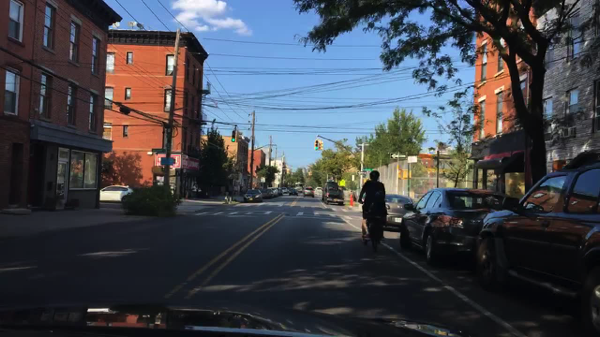bike: (356, 198, 391, 250)
car: (472, 149, 598, 329), (399, 187, 520, 264), (382, 194, 414, 228), (97, 184, 133, 203), (322, 182, 345, 203), (323, 189, 345, 204), (244, 189, 263, 202), (259, 189, 274, 200), (302, 187, 316, 198), (268, 188, 279, 198), (288, 189, 299, 196), (276, 188, 284, 197), (280, 186, 287, 195), (314, 186, 323, 193), (286, 186, 292, 193), (294, 187, 302, 192)
person: (365, 190, 389, 226)
rider: (357, 170, 388, 242)
traffic light: (399, 169, 412, 182), (149, 165, 164, 176), (160, 157, 175, 166), (237, 130, 243, 143), (230, 130, 235, 143), (314, 139, 319, 151), (319, 140, 324, 151), (259, 176, 266, 183), (351, 174, 356, 183), (309, 171, 314, 177)
traffic sign: (387, 153, 407, 161), (338, 179, 347, 188), (359, 167, 373, 172), (356, 171, 368, 176)
